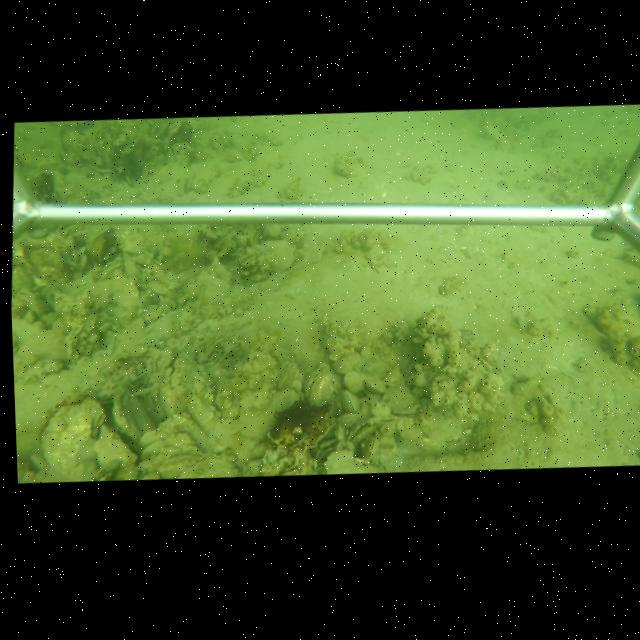Oyster-Closed: (140, 448, 203, 477), (64, 313, 97, 361), (305, 364, 342, 406), (112, 399, 143, 439), (263, 239, 298, 273), (185, 394, 217, 431), (92, 458, 120, 481), (341, 389, 362, 413), (365, 434, 379, 461), (364, 379, 386, 394)
Oyster-Indeterminate: (39, 398, 106, 476), (99, 426, 138, 466), (110, 267, 142, 308)
Oyster-Open: (347, 416, 395, 443)
